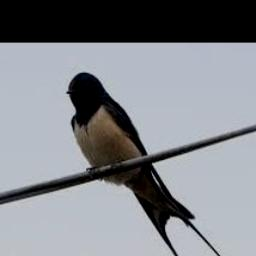Swallow: (66, 72, 232, 256)
